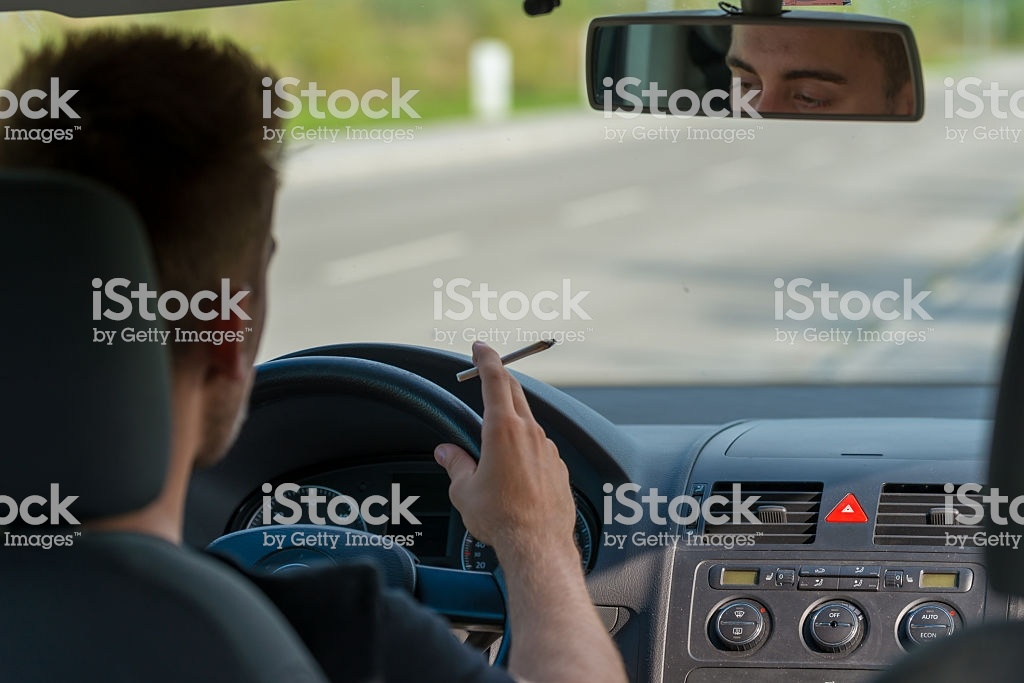sigaretta: (454, 337, 552, 386)
